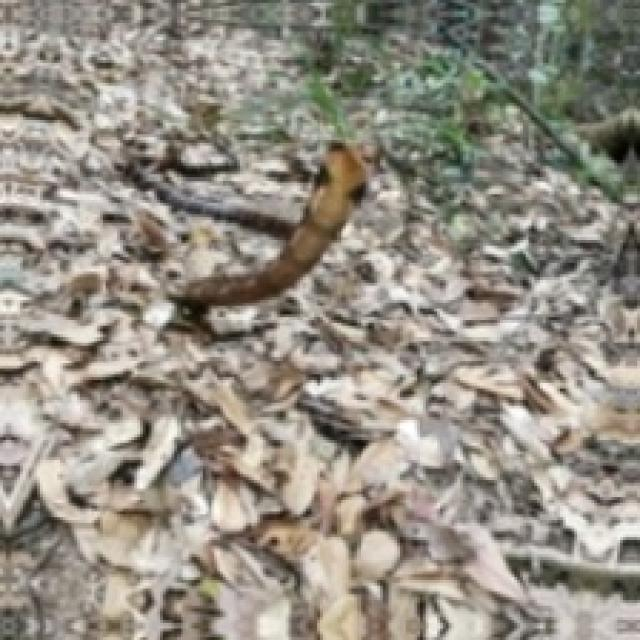king cobra: (169, 143, 363, 306)
